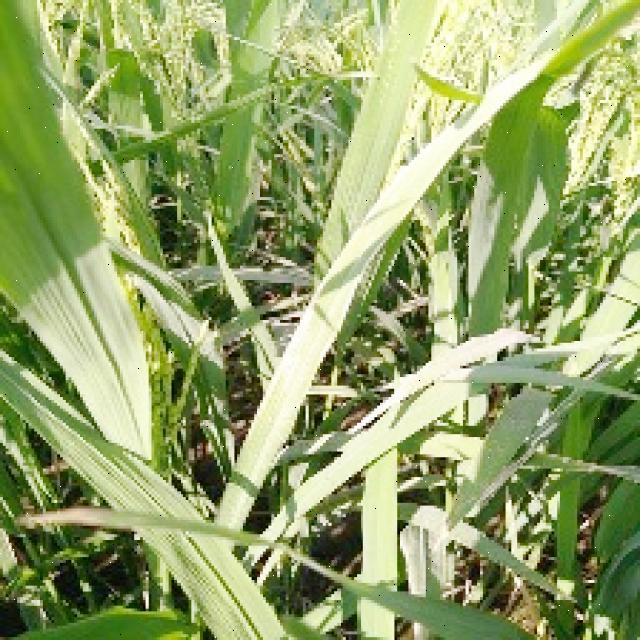health: (214, 44, 568, 542)
